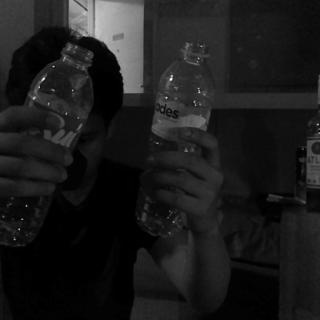plastic_bottles: (0, 42, 94, 247), (130, 40, 214, 241)
